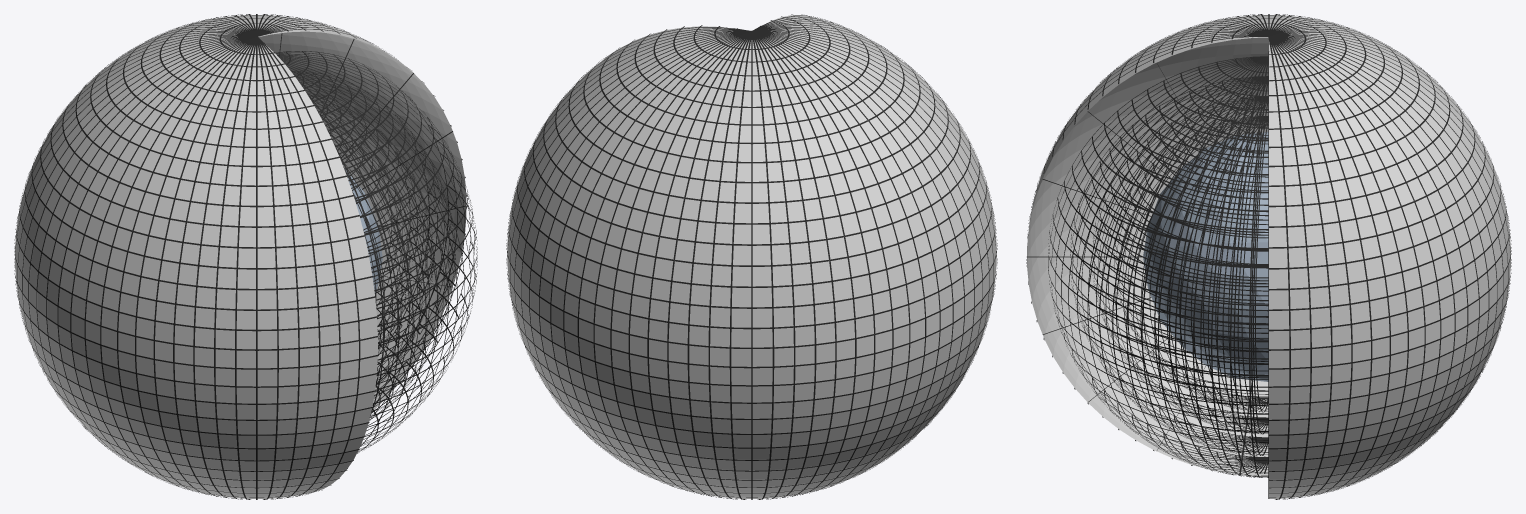
Rendered from Gaussian_grid_3D_cutaway.glb.
The picture shows the model from 3 angles, left to right: view 1: azimuth 30°, elevation 25°; view 2: azimuth 150°, elevation 25°; view 3: azimuth 270°, elevation 25°; orthographic projection.
Size of the model in its own units: 1 by 1 by 1.
